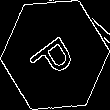P_NE: (27, 26, 83, 84)
